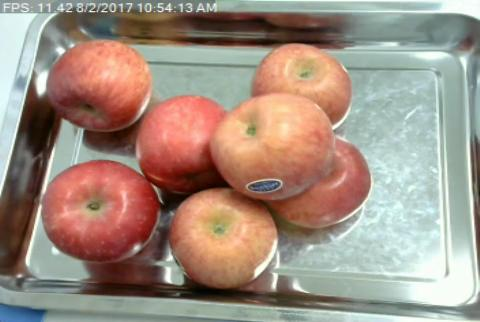apple: (212, 94, 335, 199), (43, 161, 160, 263), (172, 190, 278, 287), (47, 40, 151, 130), (252, 44, 352, 126), (138, 95, 222, 191), (287, 139, 371, 227)
